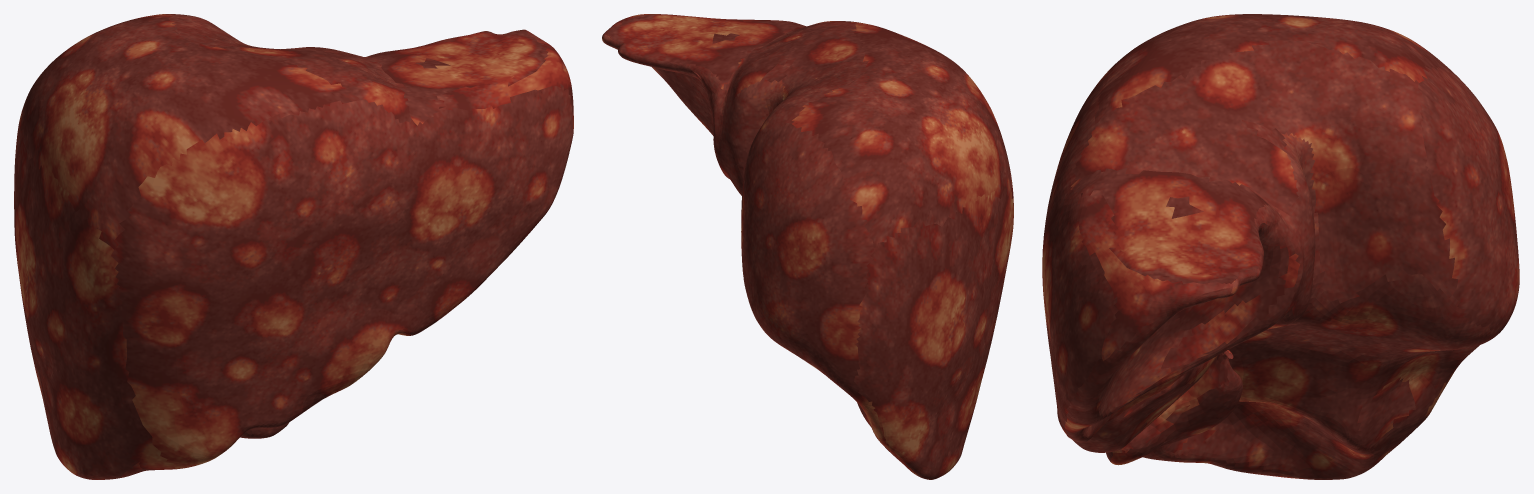
The model's file is HigadoCancerP.glb.
3 views of the same model, side by side, from view 1: azimuth 30°, elevation 25°; view 2: azimuth 150°, elevation 25°; view 3: azimuth 270°, elevation 25° (orthographic). The views are drawn at different scales.
Visible parts, largest first — view 1: Liver; view 2: Liver; view 3: Liver.
Part boxes in pixels (bbox=[...]): Liver: bbox=[14, 14, 573, 479]; Liver: bbox=[602, 14, 1013, 479]; Liver: bbox=[1042, 14, 1519, 479].
Size of the model in its own units: 2.91 by 2.54 by 2.19.
1 material, 1 textured.
